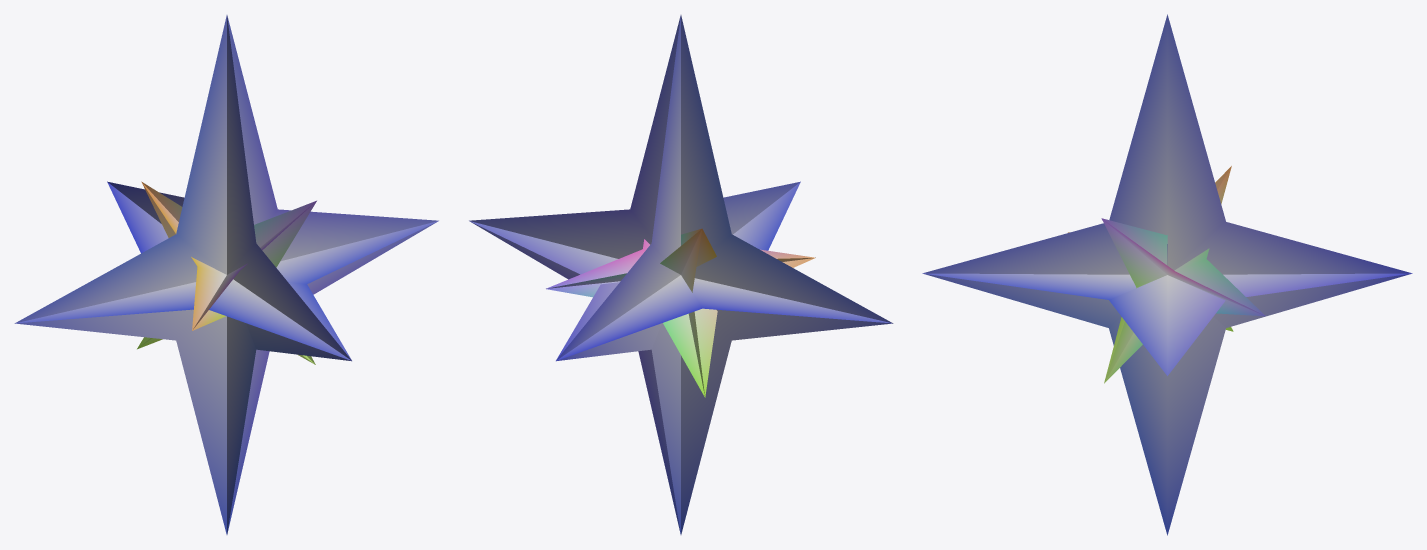
File: space-stars-star_v8.glb
3 views of the same model, side by side, from view 1: azimuth 30°, elevation 25°; view 2: azimuth 150°, elevation 25°; view 3: azimuth 270°, elevation 25° (orthographic).
Visible parts, largest first — view 1: Star_v8; view 2: Star_v8; view 3: Star_v8.
Part boxes in pixels (x1=…): Star_v8: x1=14, y1=15, x2=438, y2=534; Star_v8: x1=469, y1=15, x2=893, y2=534; Star_v8: x1=922, y1=14, x2=1412, y2=535.
Bounding box in the file's own units: 0.4261 × 0.5 × 0.4261.
